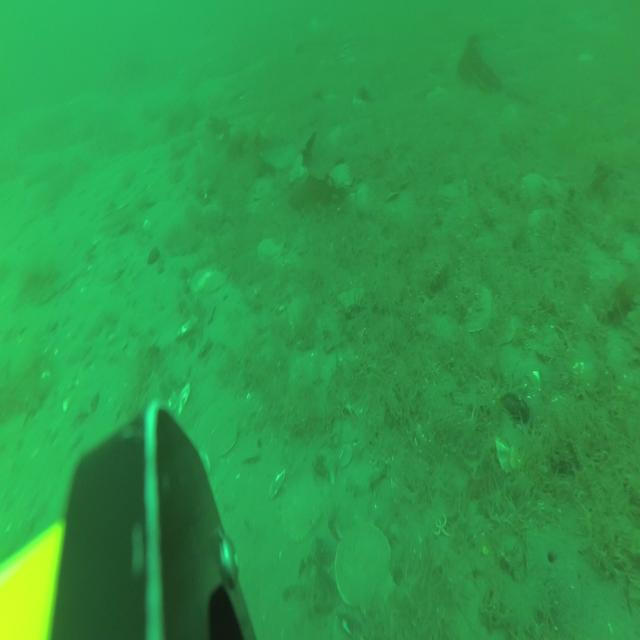scallop: (335, 520, 396, 612), (283, 469, 322, 542), (198, 401, 238, 456), (462, 285, 494, 332), (192, 267, 224, 295), (100, 256, 126, 284), (329, 162, 352, 190), (259, 237, 283, 261)
